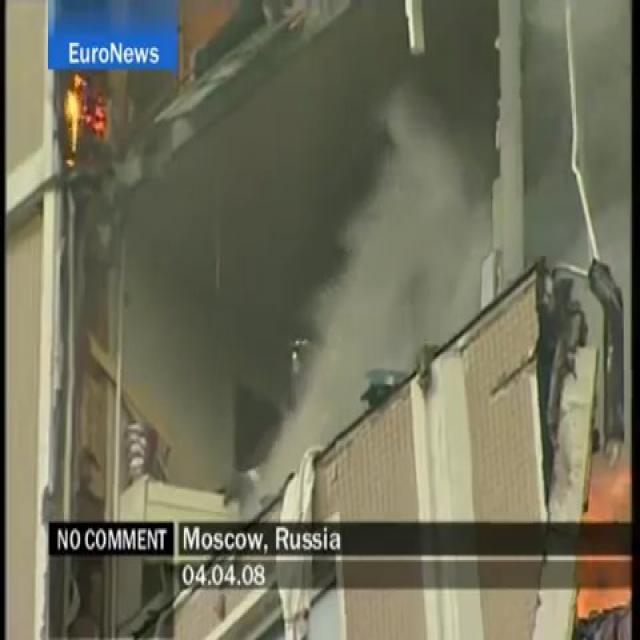fire: (63, 69, 112, 162)
